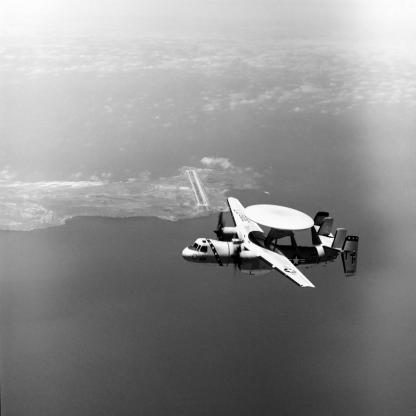E2: (183, 198, 360, 289)
